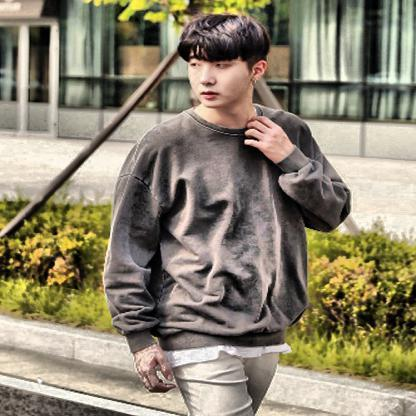short sleeve shirt: (166, 343, 292, 368)
sweater: (103, 100, 354, 349)
trousers: (176, 351, 283, 416)
